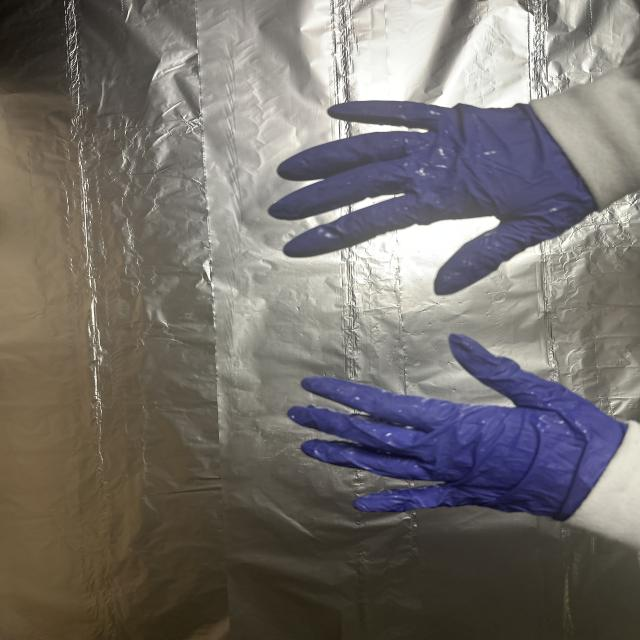gloves_contaminated: (269, 101, 596, 295), (288, 334, 627, 520)
